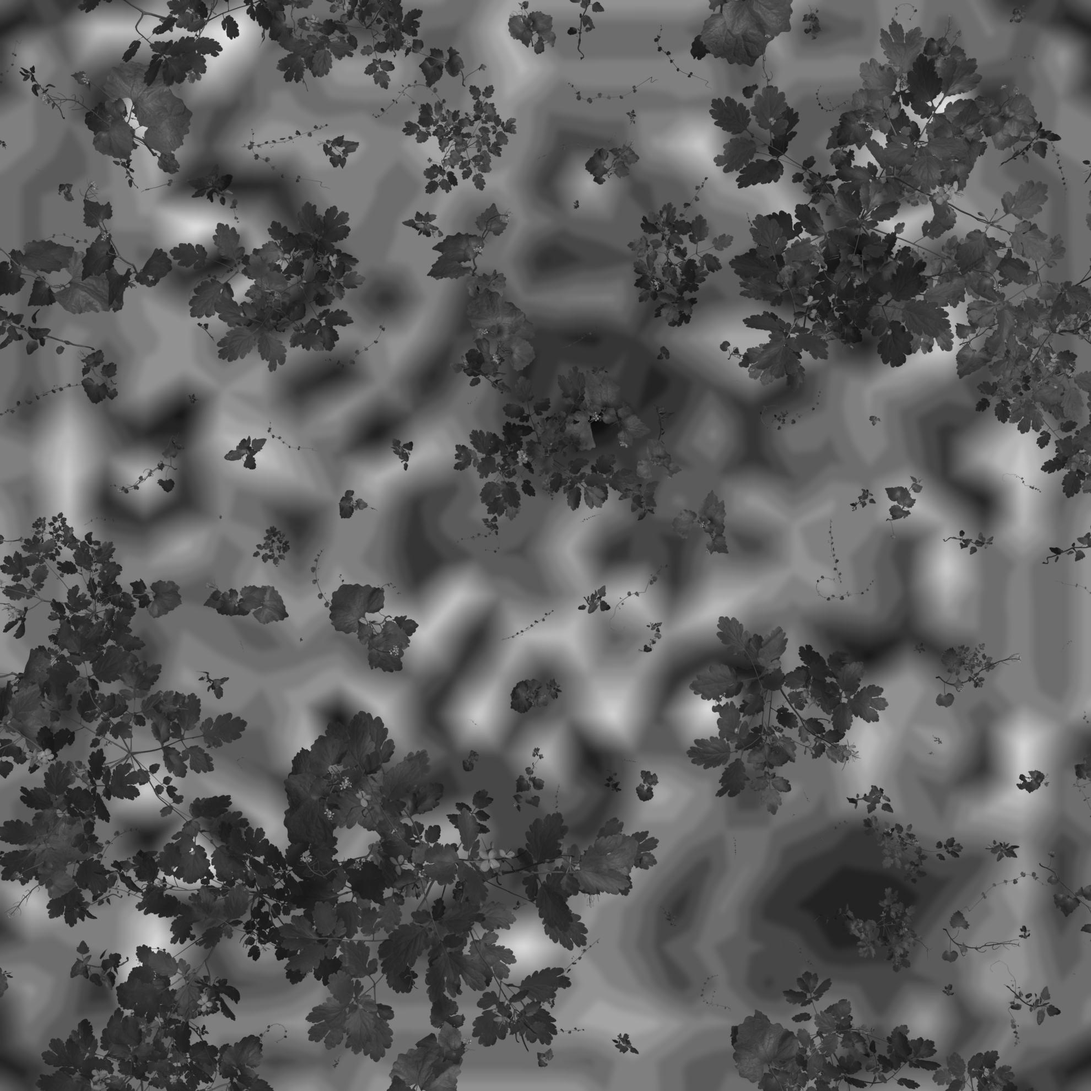landmine: (511, 333, 647, 444), (795, 846, 908, 949)
